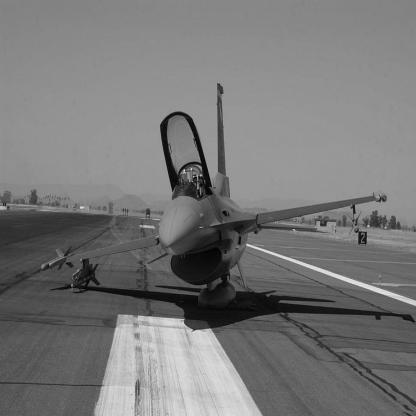F16: (41, 81, 388, 311)
